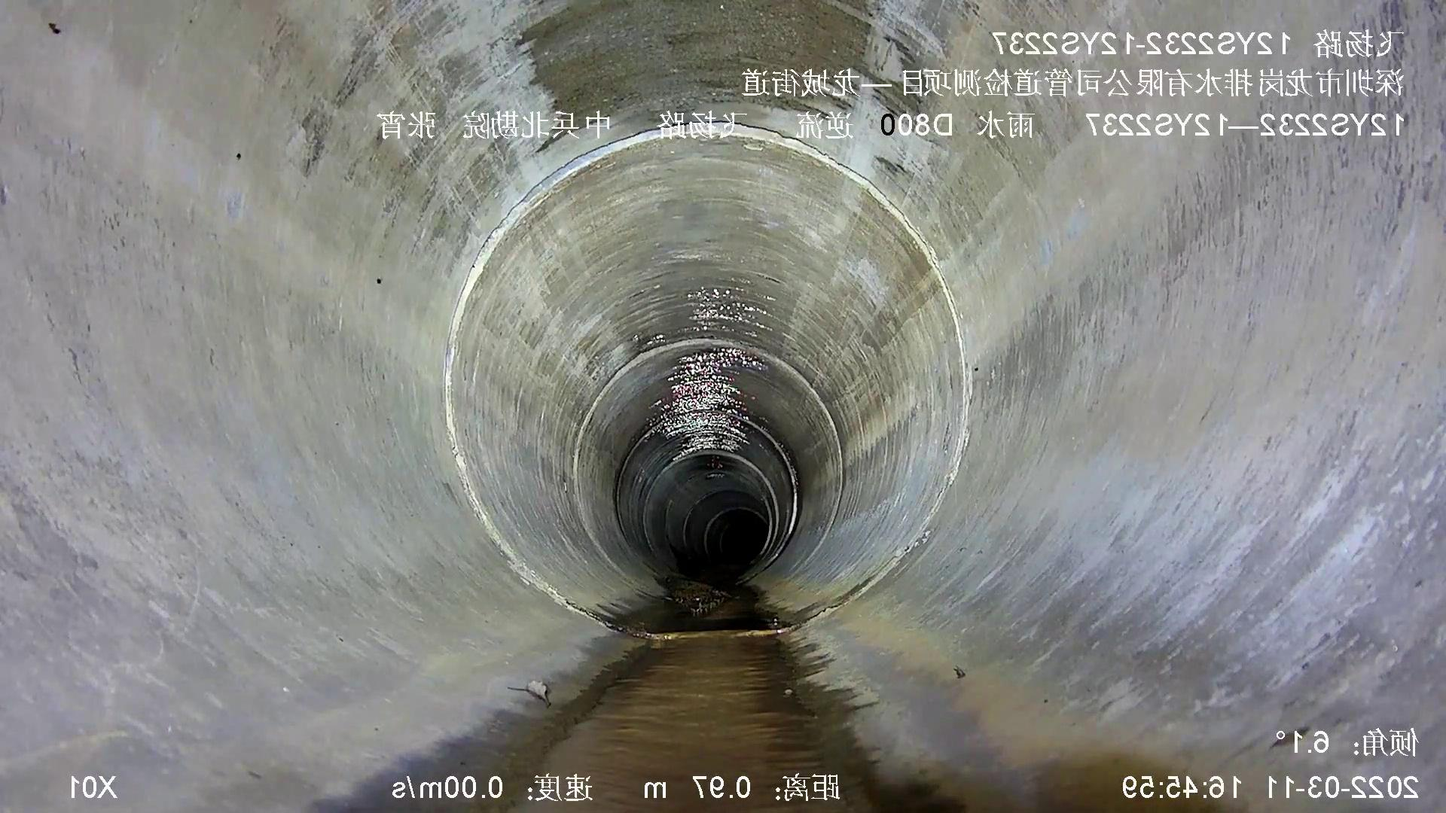CKTJ: (444, 121, 972, 612), (571, 336, 745, 495)
